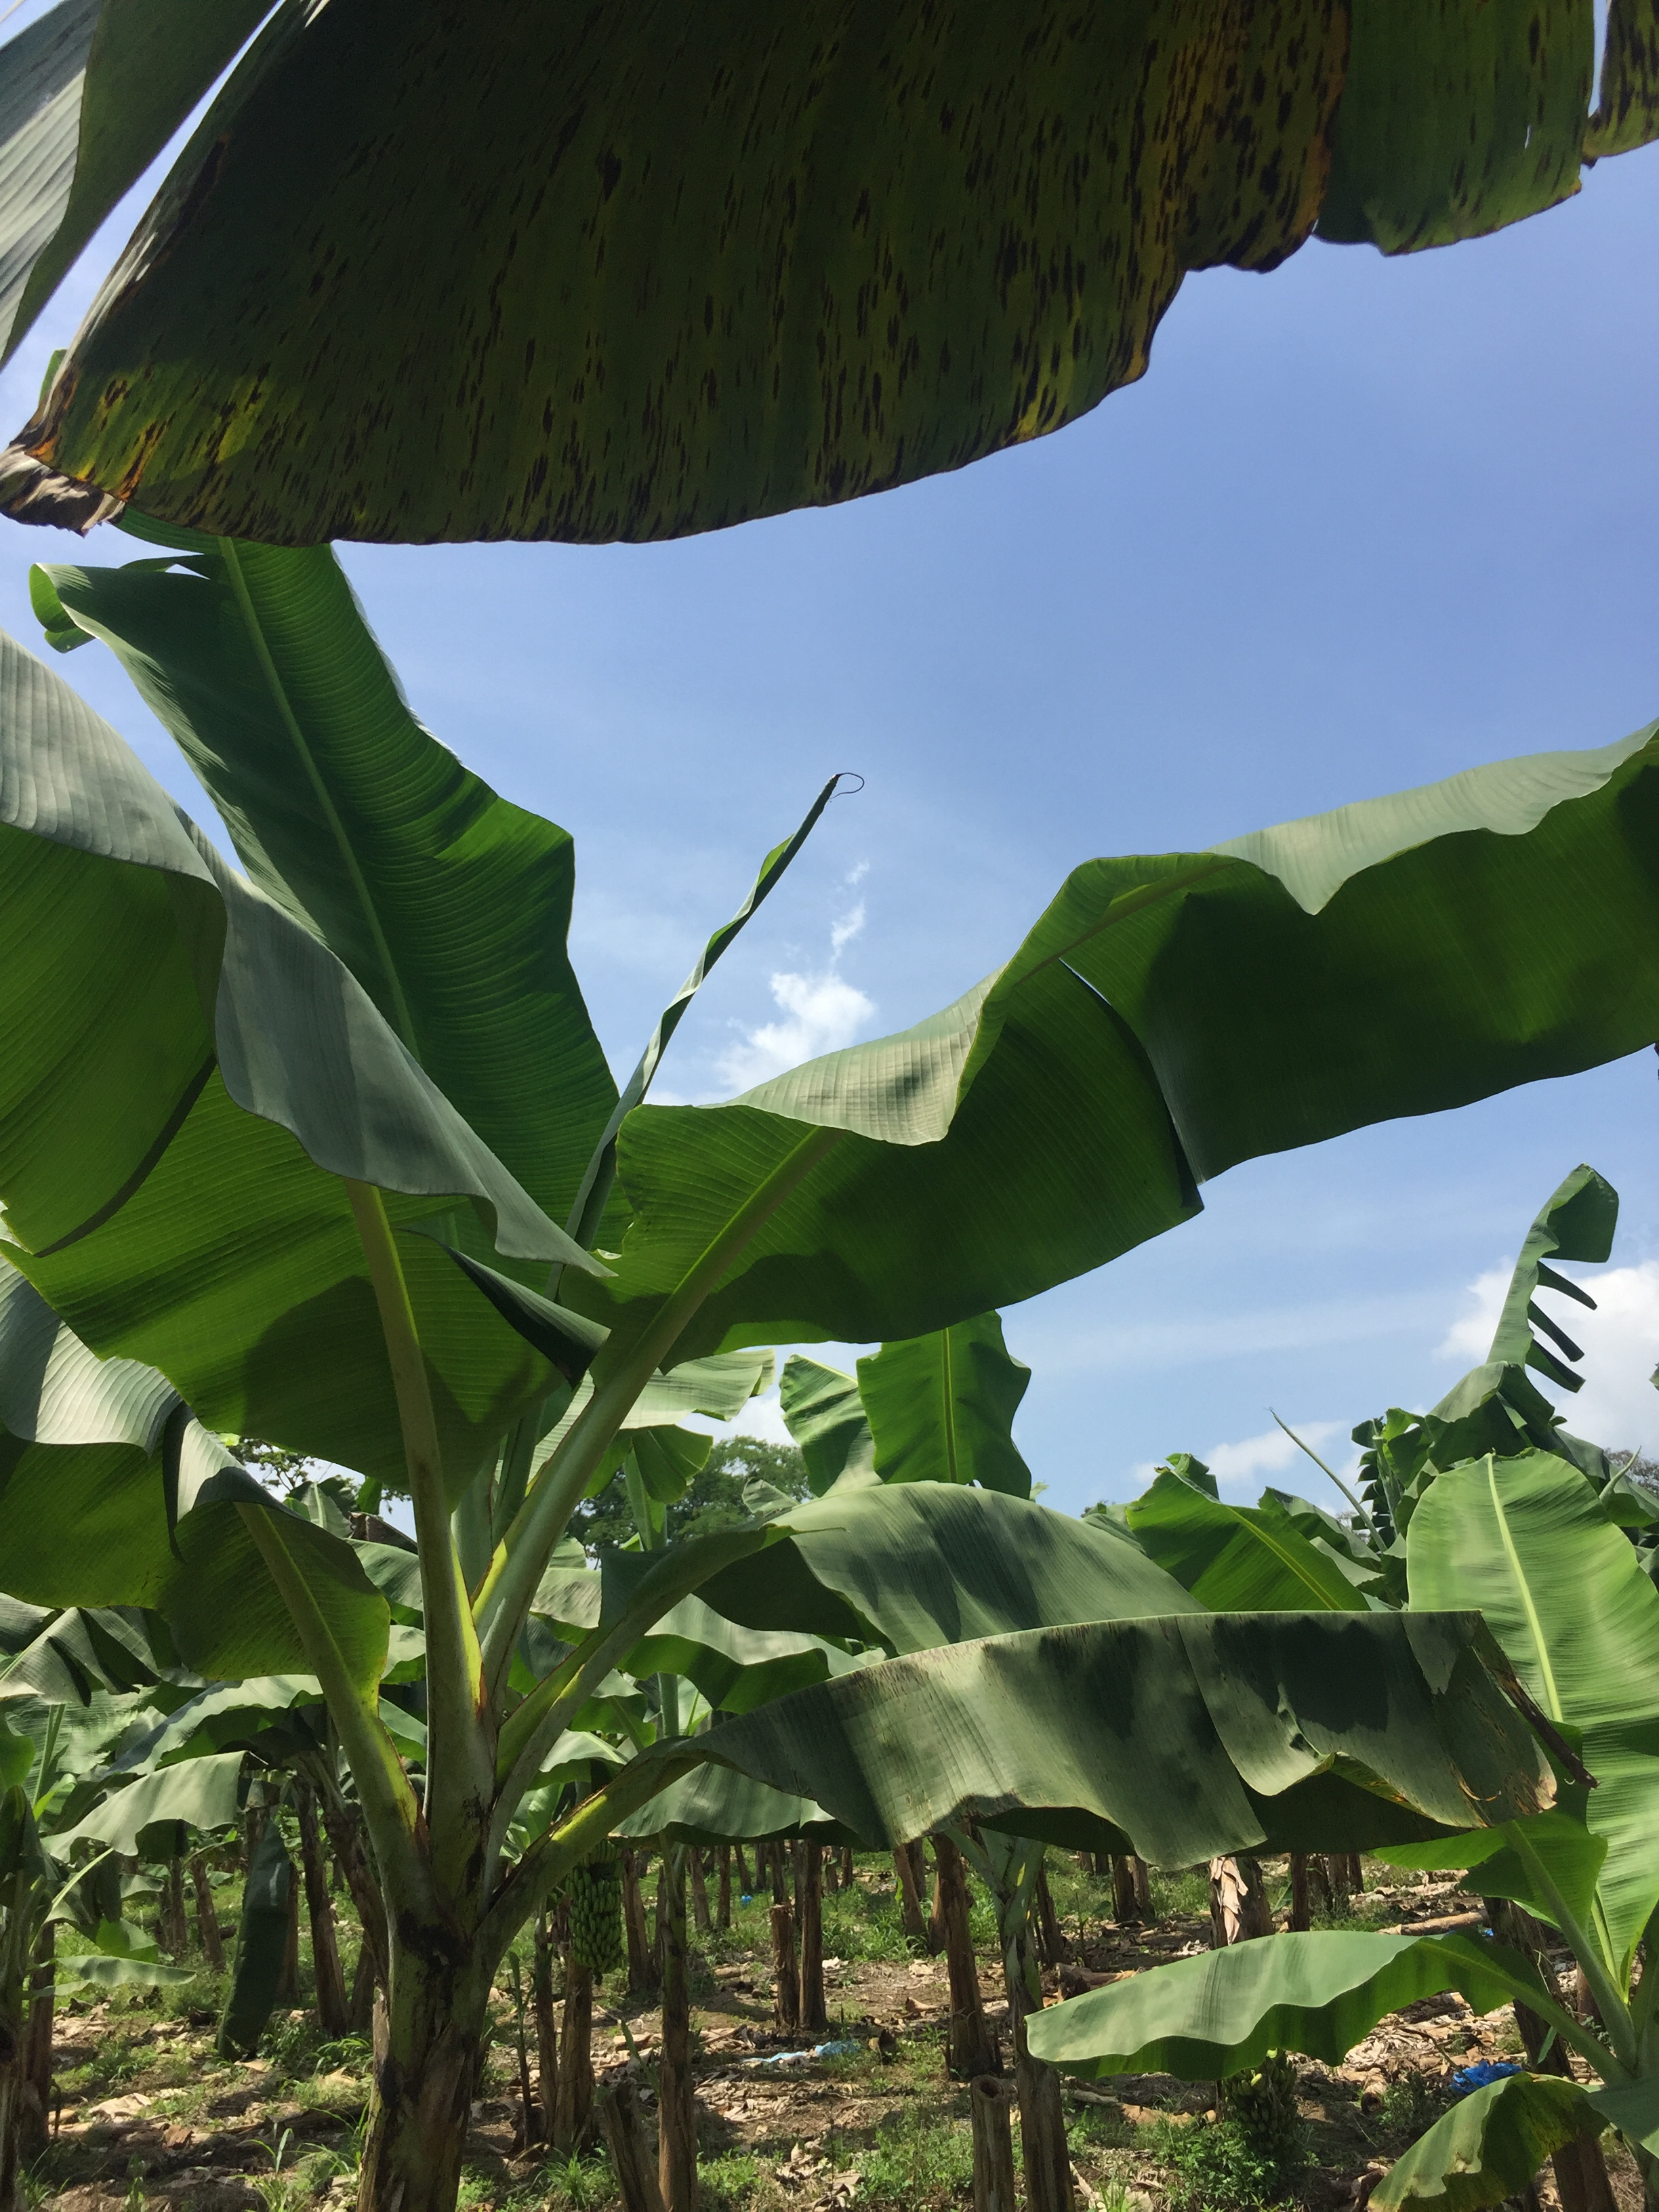candleleafs: (565, 773, 866, 1223), (1270, 1402, 1385, 1550)
